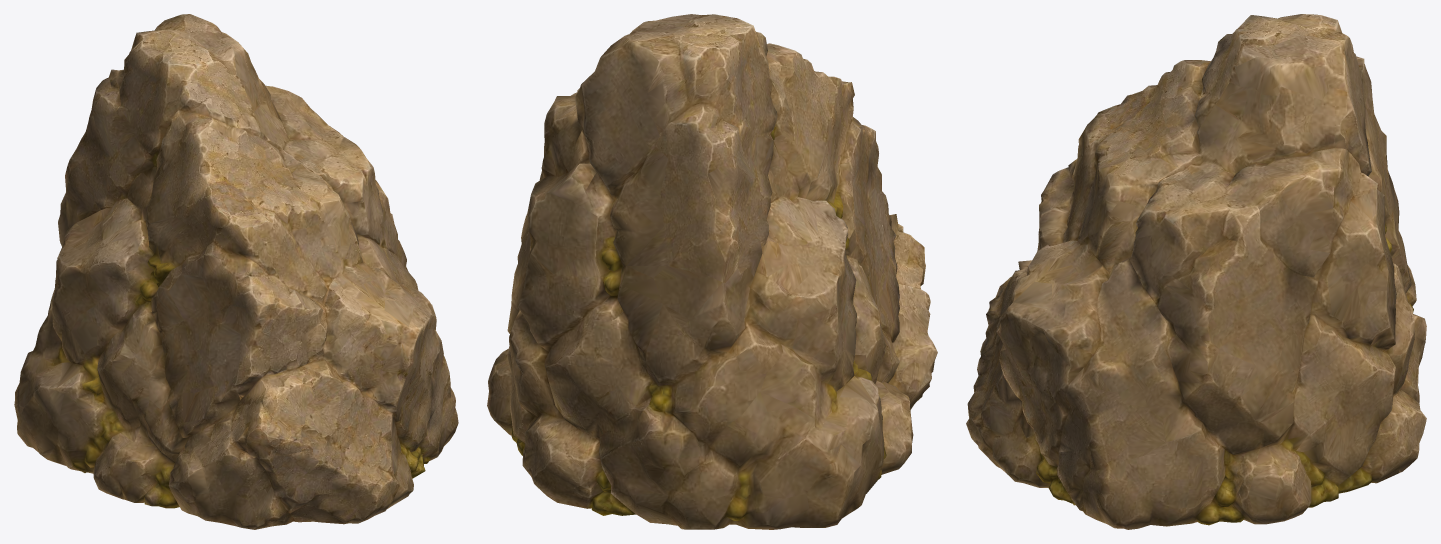
File: rock-03.glb
3 views of the same model, side by side, from view 1: azimuth 30°, elevation 25°; view 2: azimuth 150°, elevation 25°; view 3: azimuth 270°, elevation 25° (orthographic). The views are drawn at different scales.
Parts seen in each view (by area): view 1: nebeljagd-tripo-rock-03; view 2: nebeljagd-tripo-rock-03; view 3: nebeljagd-tripo-rock-03.
Boxes of the visible parts, box(x1,y1,x2,y2) form: nebeljagd-tripo-rock-03: box(14, 14, 458, 529); nebeljagd-tripo-rock-03: box(487, 14, 937, 529); nebeljagd-tripo-rock-03: box(966, 14, 1426, 529).
Size of the model in its own units: 2.35 by 2.55 by 2.6.
1 material, 1 textured.
